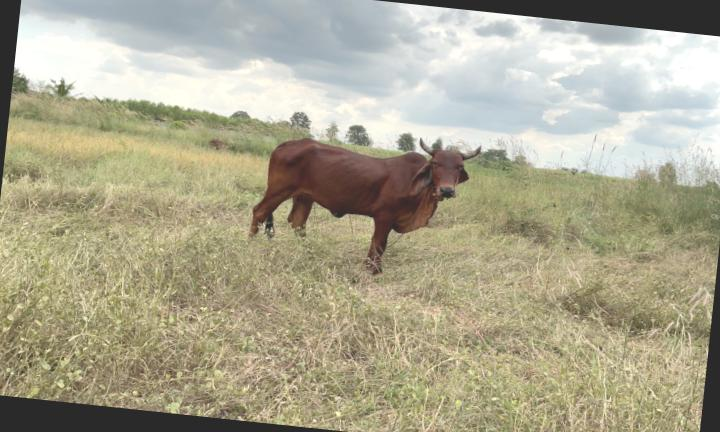Brahman: (250, 138, 480, 273)
